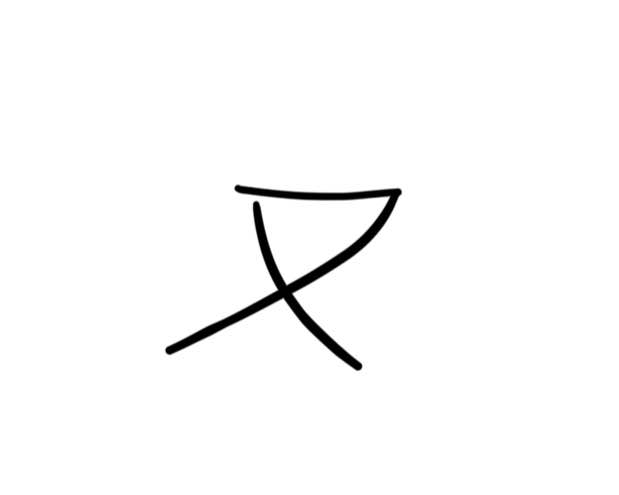nu: (151, 174, 435, 375)
